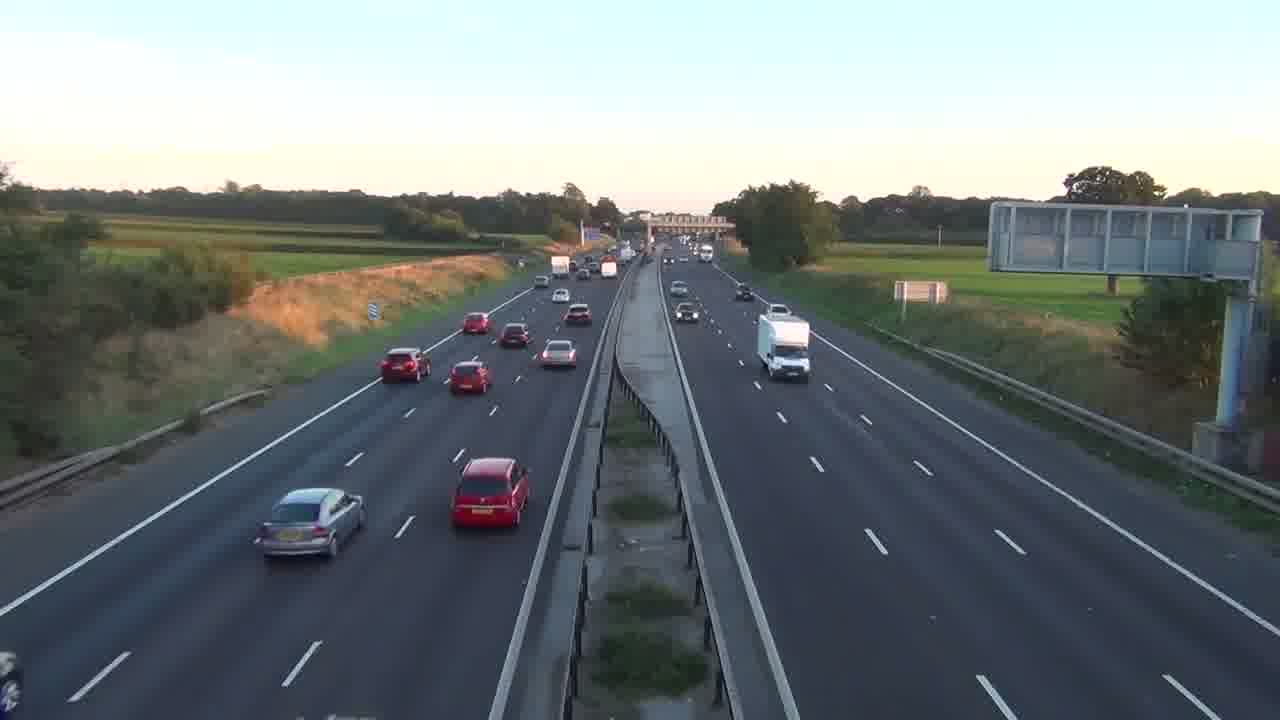car: (252, 487, 367, 560), (450, 456, 532, 529), (378, 347, 431, 384), (446, 359, 492, 395), (534, 336, 577, 370), (496, 321, 530, 350), (462, 311, 492, 335), (562, 304, 592, 326)
truck: (757, 314, 812, 382), (761, 316, 813, 382)
